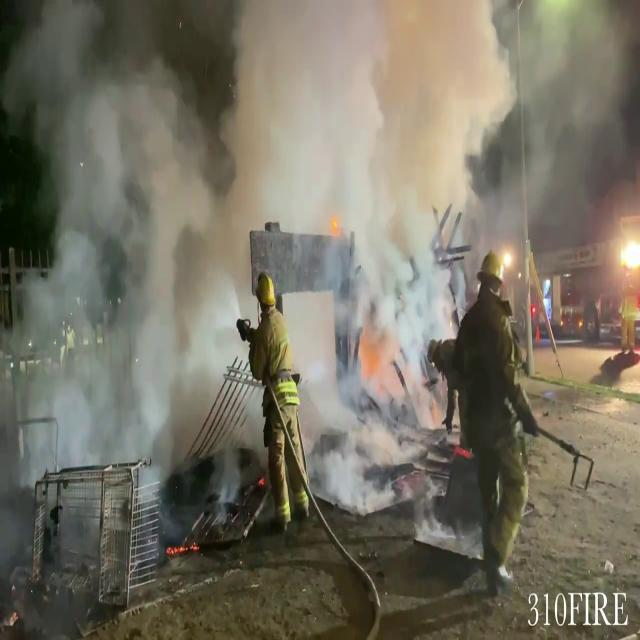Fire: (617, 231, 640, 278)
Smoke: (6, 0, 517, 536), (458, 0, 639, 252)
